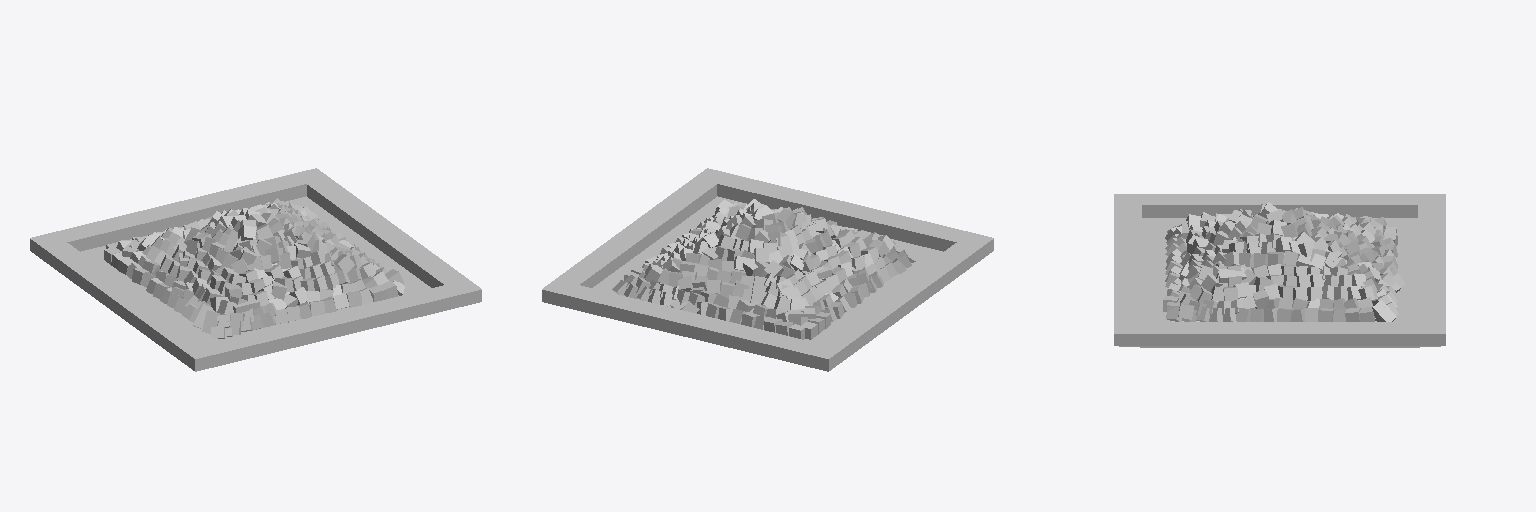
Rendered from rice0.obj.
3 renders of one model, left to right at view 1: azimuth 30°, elevation 25°; view 2: azimuth 150°, elevation 25°; view 3: azimuth 270°, elevation 25°, orthographic.
Parts seen in each view (by area): view 1: Box001; view 2: Box001; view 3: Box001.
Boxes of the visible parts, x1=… form: Box001: x1=30, y1=168, x2=481, y2=371; Box001: x1=542, y1=168, x2=993, y2=371; Box001: x1=1114, y1=194, x2=1445, y2=347.
Size of the model in its own units: 0.744 by 0.222 by 0.744.